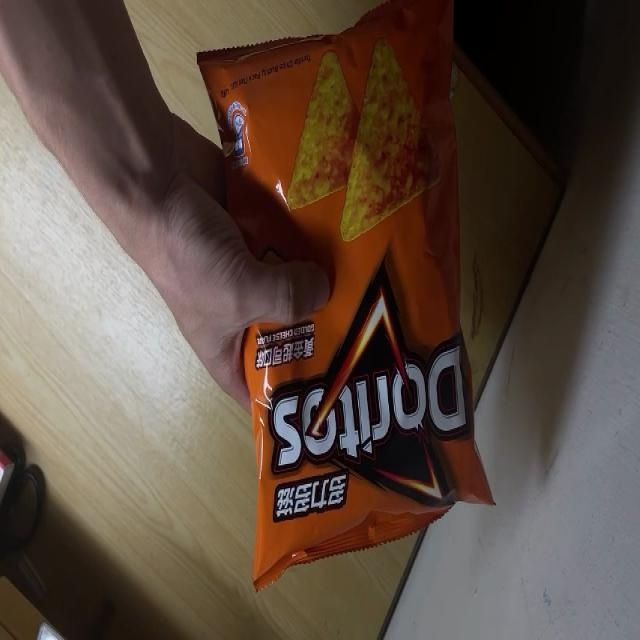Doritos: (197, 0, 495, 593)
